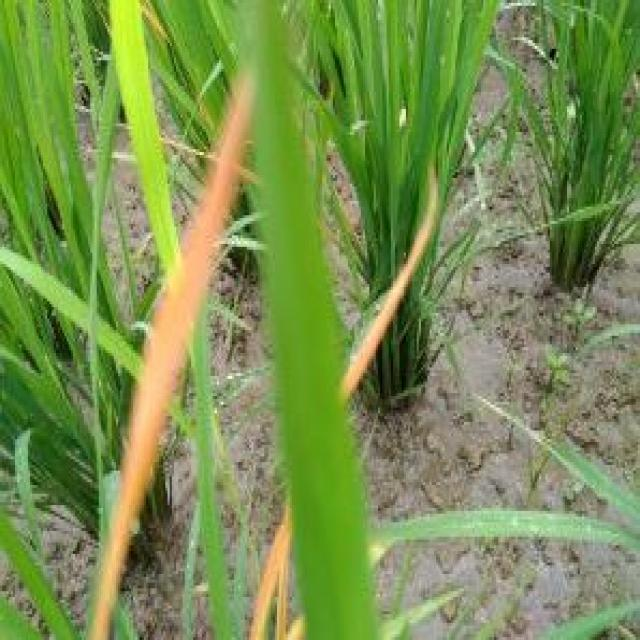Tungro: (83, 62, 247, 640), (338, 163, 443, 412), (249, 476, 310, 640)
